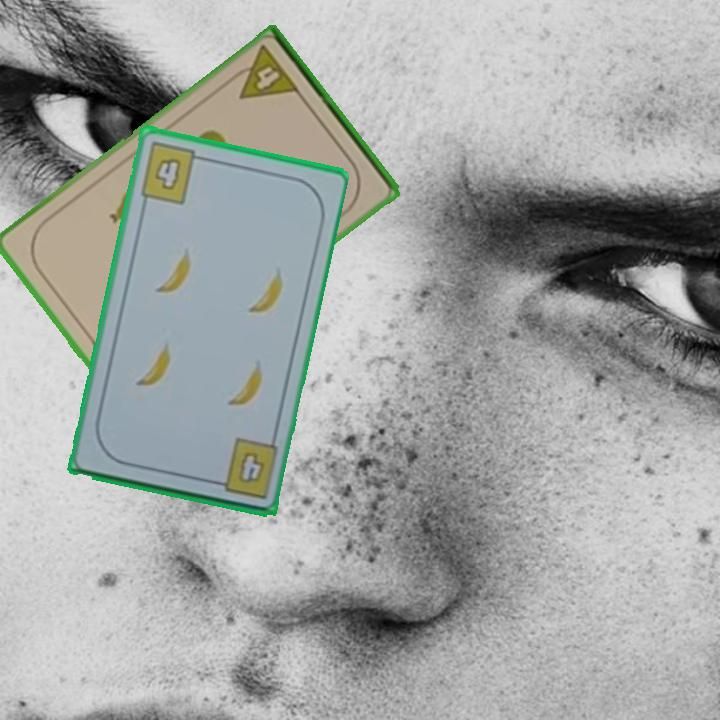4b: (136, 138, 209, 208), (207, 435, 277, 502)
4p: (225, 41, 303, 103)
